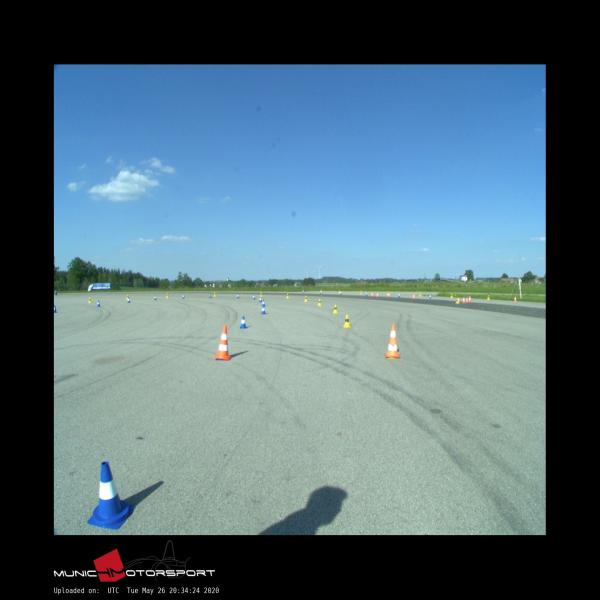blue_cone: (87, 461, 135, 529), (239, 316, 247, 328), (261, 306, 266, 314), (54, 304, 57, 313), (96, 300, 100, 306), (262, 300, 266, 306), (252, 294, 256, 300), (182, 294, 185, 299), (259, 297, 262, 302), (429, 294, 432, 299), (128, 297, 130, 303), (154, 295, 156, 300), (237, 293, 239, 298), (209, 294, 211, 298), (398, 293, 400, 297)
large_orange_cone: (214, 325, 230, 359), (386, 324, 400, 357)
orange_cone: (514, 296, 518, 302), (468, 296, 472, 302), (462, 297, 465, 303), (412, 294, 415, 299), (466, 297, 468, 303)
yellow_cone: (343, 315, 351, 327), (332, 304, 338, 313), (88, 297, 92, 303), (318, 299, 321, 306), (304, 296, 308, 301), (126, 294, 129, 300), (456, 298, 459, 304), (450, 293, 453, 298), (260, 292, 263, 296), (286, 294, 289, 298), (487, 295, 490, 299), (419, 292, 422, 296), (166, 293, 168, 298), (214, 292, 216, 296)
